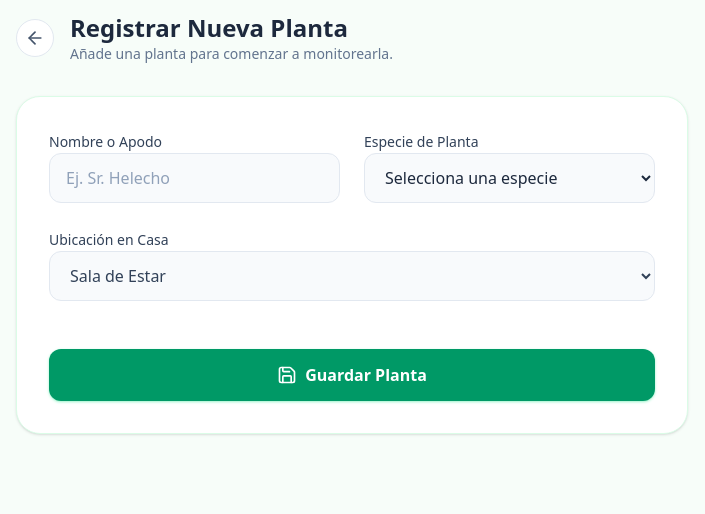
Test: Formulario AddPlant › un error de red (status 0) muestra el mensaje de sin conexión y el botón se vuelve a habilitar
The width and height of the screenshot is (705, 514).
Type "Pepita" into the field labelled "Nombre o Apodo" at (194, 178), box [49,153,340,203]
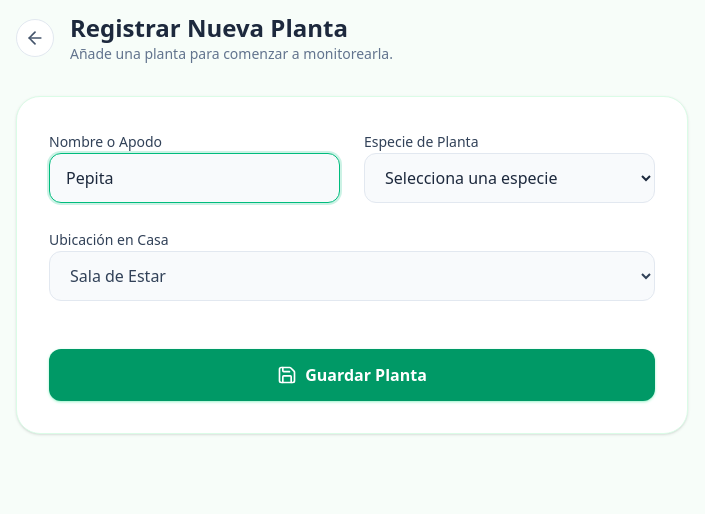
Select "Pothos" in the dropdown labelled "Especie de Planta" at (510, 178), box [364,153,655,203]
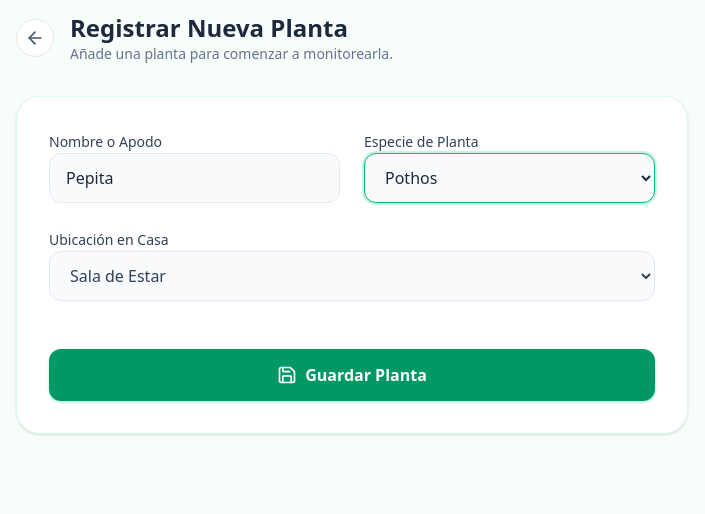
Select "Cocina" in the dropdown labelled "Ubicación en Casa" at (352, 276), box [49,251,655,301]
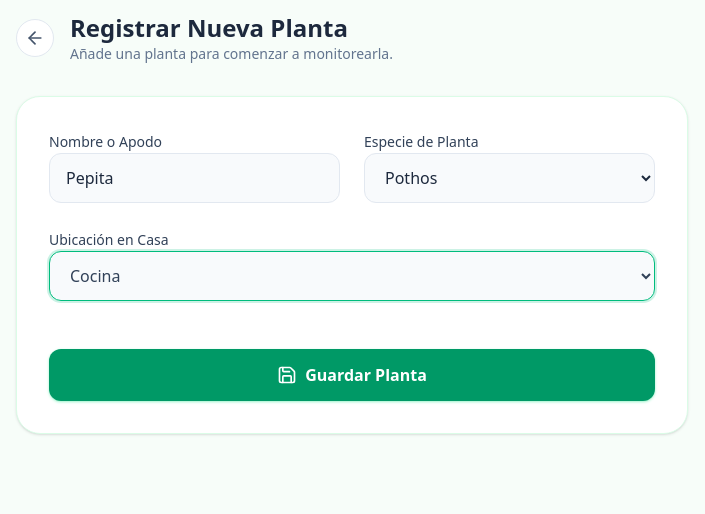
Click the button "Guardar Planta" at (352, 375), box [49,349,655,401]
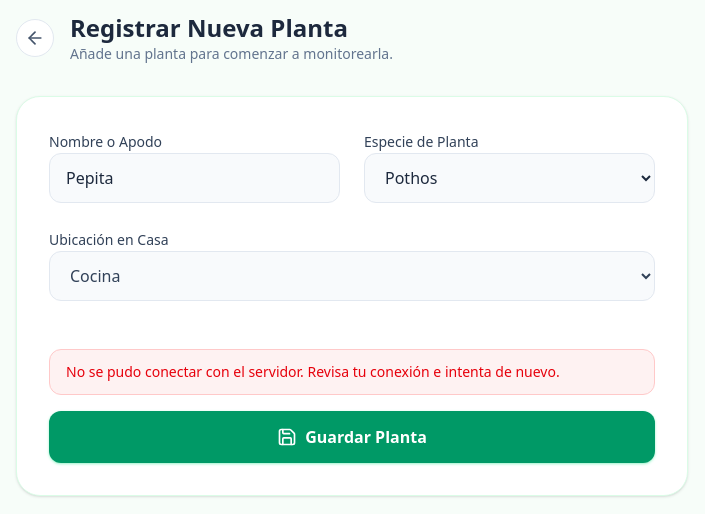
Check: the button "Guardar Planta" is enabled, box [49,411,655,463]
Check: the message reads "No se pudo conectar con el servidor. Revisa tu conexión e intenta de nuevo.", box [66,362,560,381]
